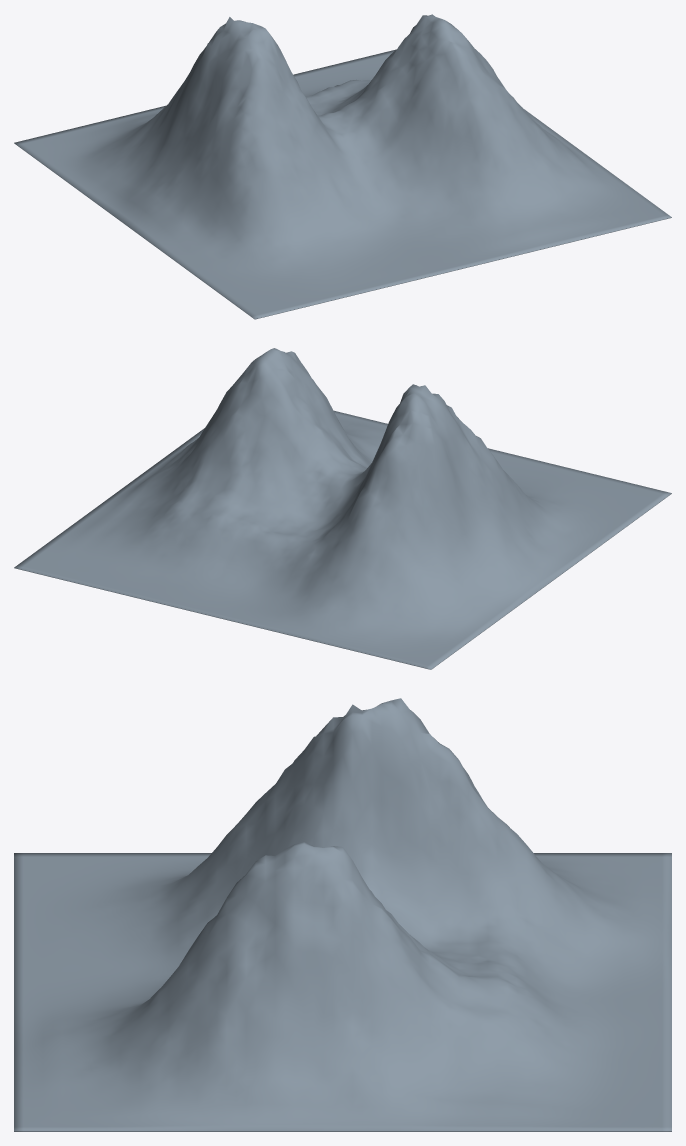
The model's file is SM_SaddleC.fbx.
3 renders of one model, top to bottom at view 1: azimuth 30°, elevation 25°; view 2: azimuth 150°, elevation 25°; view 3: azimuth 270°, elevation 25°, orthographic. The views are drawn at different scales.
Visible parts, largest first — view 1: SM_SaddleC; view 2: SM_SaddleC; view 3: SM_SaddleC.
Boxes of the visible parts, x1,y1,x2,y2 form: SM_SaddleC: (14, 14, 671, 319); SM_SaddleC: (14, 348, 671, 669); SM_SaddleC: (14, 698, 671, 1131).
Size of the model in its own units: 100 by 100 by 39.12.
